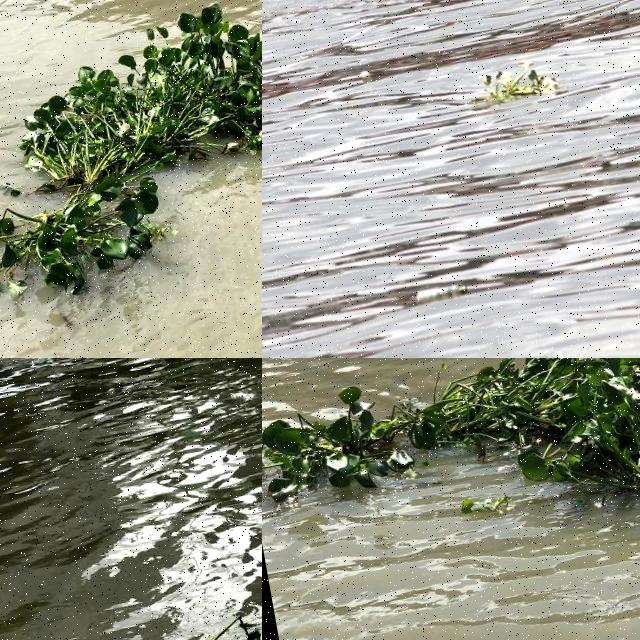water-hyacinth: (1, 1, 263, 200), (392, 359, 640, 563), (1, 163, 198, 328), (263, 376, 421, 512), (475, 53, 557, 104)
